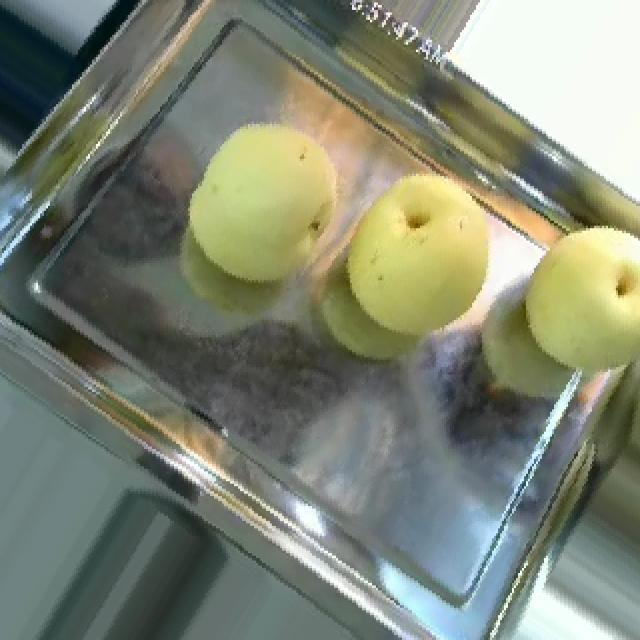Fruit: (158, 72, 460, 320), (316, 139, 524, 367), (498, 201, 640, 399)
